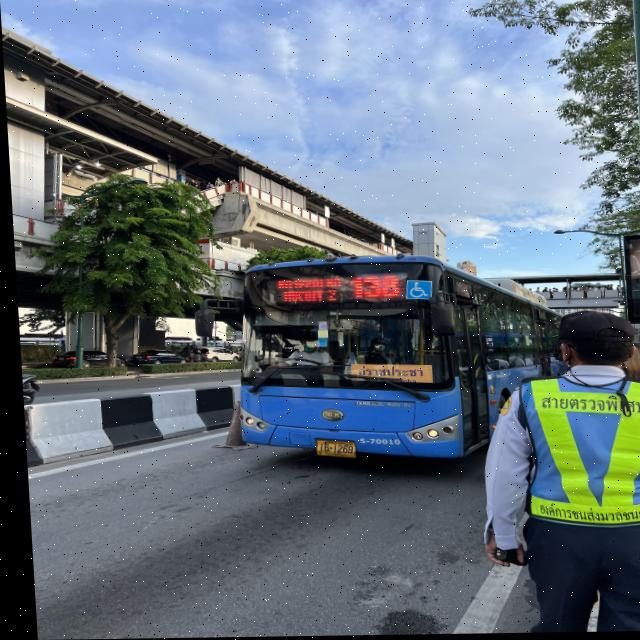BMTA-bus: (227, 257, 557, 463)
Bus Line Number: (342, 269, 404, 301)
Bus Side Number: (350, 435, 398, 449)
Destination Sign: (346, 364, 430, 388)
